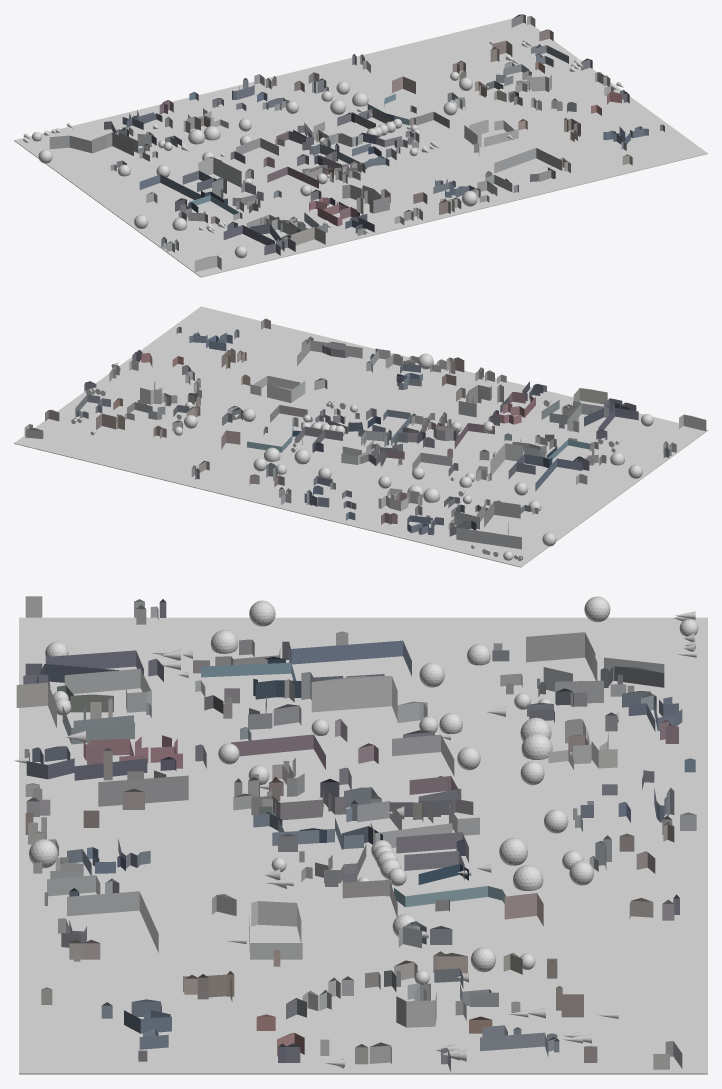
The picture shows the model from 3 angles, top to bottom: view 1: azimuth 30°, elevation 25°; view 2: azimuth 150°, elevation 25°; view 3: azimuth 270°, elevation 25°; orthographic projection. The views are drawn at different scales.
Parts seen in each view (by area): view 1: Ground_Base, BLD-023, BLD-204, BLD-197, BLD-131, BLD-019, BLD-132, BLD-158, BLD-214, BLD-154, BLD-159, BLD-207 (+1 smaller); view 2: Ground_Base, BLD-023, BLD-204, BLD-197, BLD-131, BLD-019, BLD-159, BLD-158, BLD-100, BLD-132, BLD-207; view 3: Ground_Base, BLD-131, BLD-197, BLD-132, BLD-023, BLD-204, BLD-019, BLD-193, BLD-215, BLD-083, BLD-213, BLD-100 (+22 smaller).
Boxes of the visible parts, x1=… form: Ground_Base: x1=14, y1=18, x2=707, y2=277; BLD-023: x1=49, y1=132, x2=151, y2=153; BLD-204: x1=494, y1=148, x2=562, y2=173; BLD-197: x1=342, y1=184, x2=389, y2=213; BLD-131: x1=198, y1=157, x2=241, y2=187; BLD-019: x1=92, y1=132, x2=133, y2=155; BLD-132: x1=139, y1=174, x2=200, y2=199; BLD-158: x1=484, y1=120, x2=518, y2=146; BLD-214: x1=223, y1=225, x2=274, y2=245; BLD-154: x1=267, y1=166, x2=318, y2=188; BLD-159: x1=464, y1=119, x2=488, y2=147; BLD-207: x1=291, y1=227, x2=325, y2=245; Ground_Base: x1=14, y1=306, x2=707, y2=567; BLD-023: x1=454, y1=503, x2=521, y2=549; BLD-204: x1=297, y1=340, x2=362, y2=366; BLD-197: x1=458, y1=385, x2=491, y2=417; BLD-131: x1=490, y1=443, x2=522, y2=474; BLD-019: x1=484, y1=501, x2=520, y2=527; BLD-159: x1=267, y1=381, x2=305, y2=402; BLD-158: x1=250, y1=375, x2=300, y2=395; BLD-100: x1=341, y1=431, x2=374, y2=464; BLD-132: x1=535, y1=458, x2=582, y2=491; BLD-207: x1=573, y1=388, x2=607, y2=404; Ground_Base: x1=19, y1=617, x2=707, y2=1074; BLD-131: x1=311, y1=676, x2=397, y2=720; BLD-197: x1=98, y1=770, x2=188, y2=806; BLD-132: x1=289, y1=640, x2=411, y2=676; BLD-023: x1=543, y1=651, x2=664, y2=703; BLD-204: x1=67, y1=891, x2=158, y2=952; BLD-019: x1=526, y1=632, x2=595, y2=671; BLD-193: x1=26, y1=758, x2=147, y2=780; BLD-215: x1=64, y1=668, x2=151, y2=706; BLD-083: x1=251, y1=785, x2=346, y2=820; BLD-213: x1=62, y1=705, x2=134, y2=744; BLD-100: x1=370, y1=801, x2=479, y2=847.
Size of the model in its own units: 342 by 16.98 by 217.
